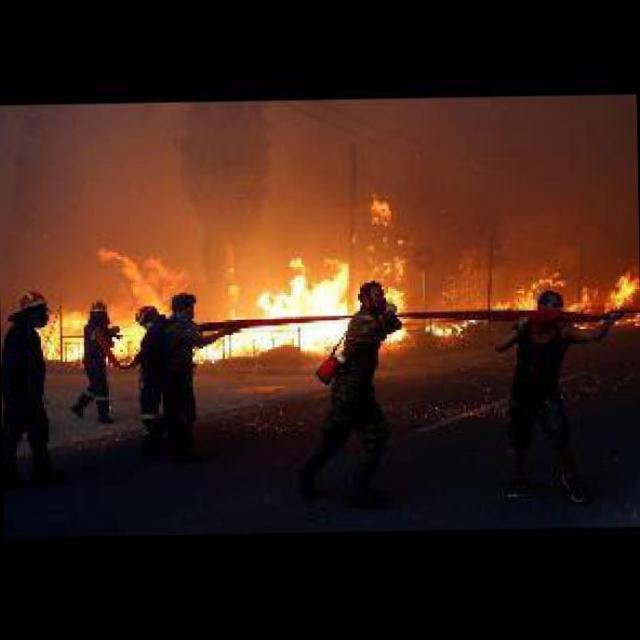fire: (222, 185, 419, 372), (30, 244, 220, 368), (426, 256, 640, 344)
